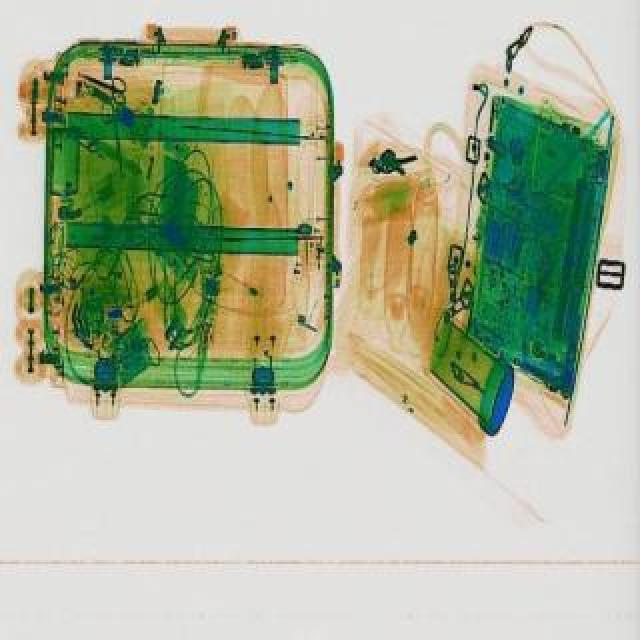pliers: (72, 68, 136, 112)
